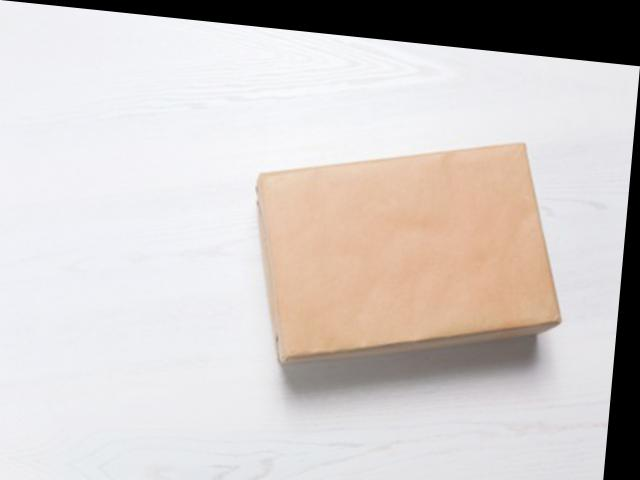package: (261, 140, 562, 365)
